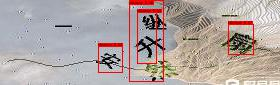chinese: (134, 33, 171, 60), (143, 61, 181, 85), (225, 31, 254, 58), (142, 12, 170, 35), (95, 51, 117, 67)
